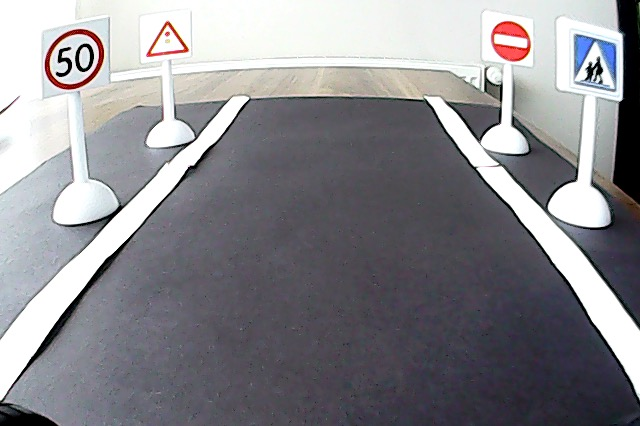do not enter: (488, 17, 532, 66)
red light: (142, 18, 190, 56)
school crossing: (567, 26, 621, 98)
speed limit 50: (42, 31, 106, 90)
